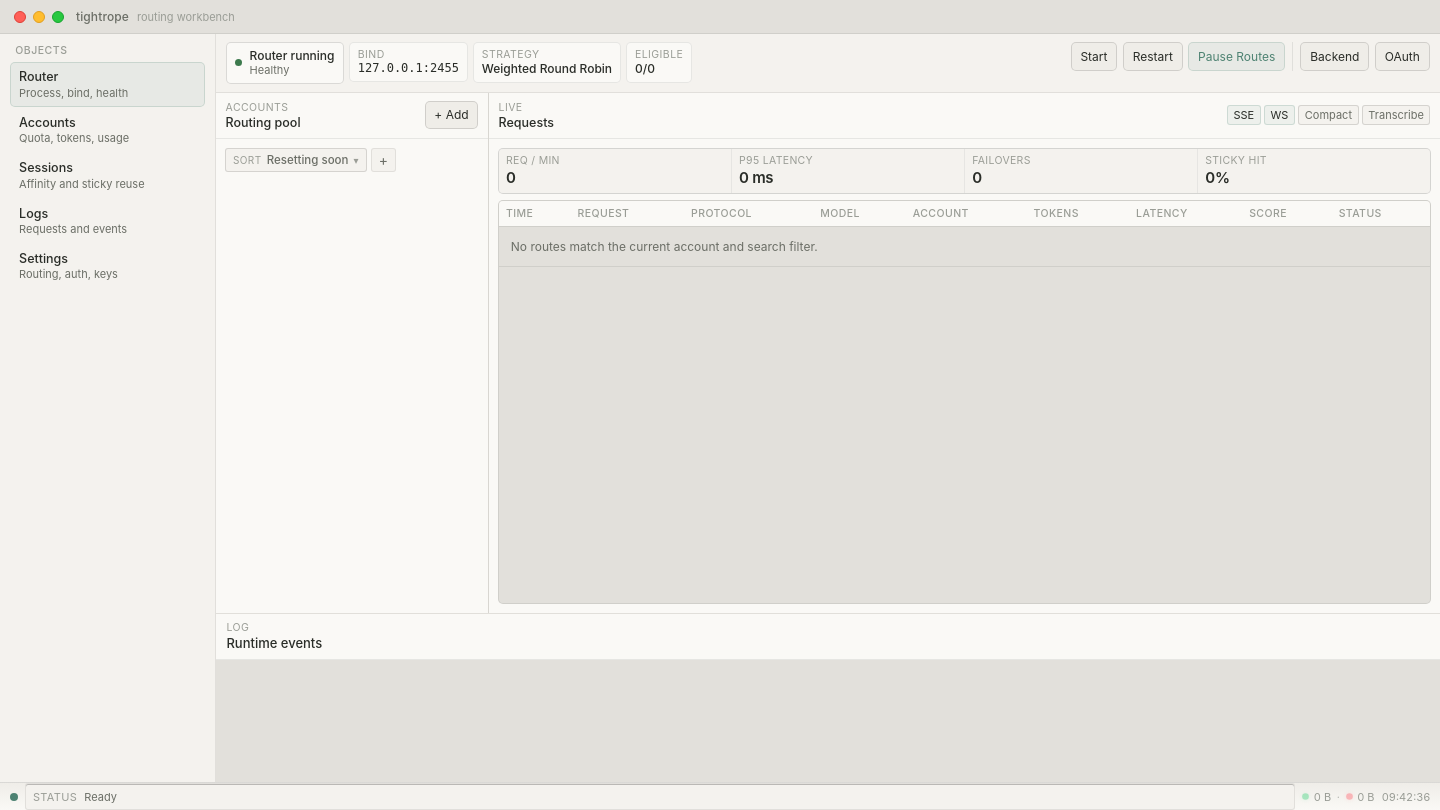
it: App › handles oauth deep-link success event and refreshes accounts immediately
Step 1. Click the button "+ Add" → (451, 115), box [424,100,478,129]
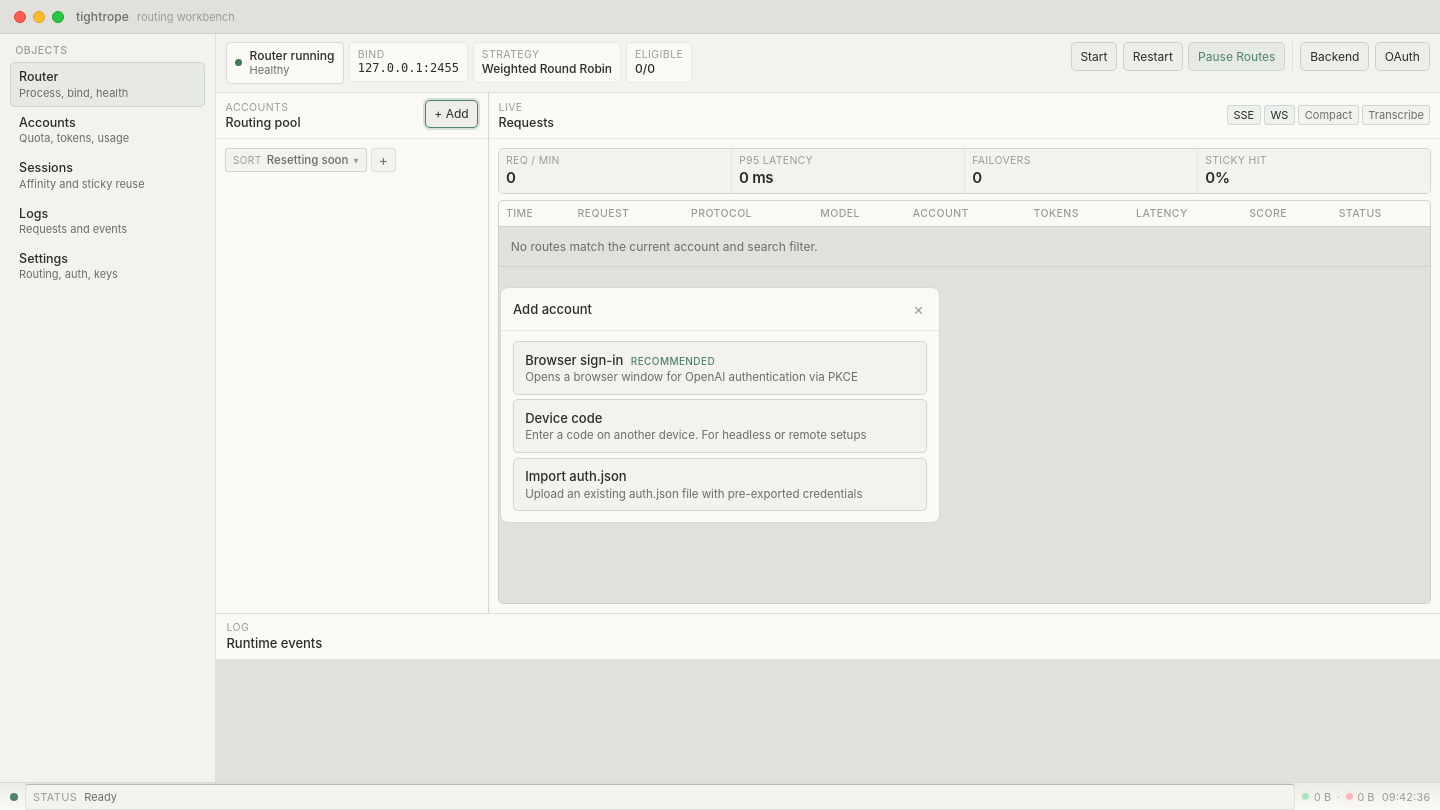
Step 2. Click the button "Browser sign-in" → (720, 368), box [513,341,927,395]
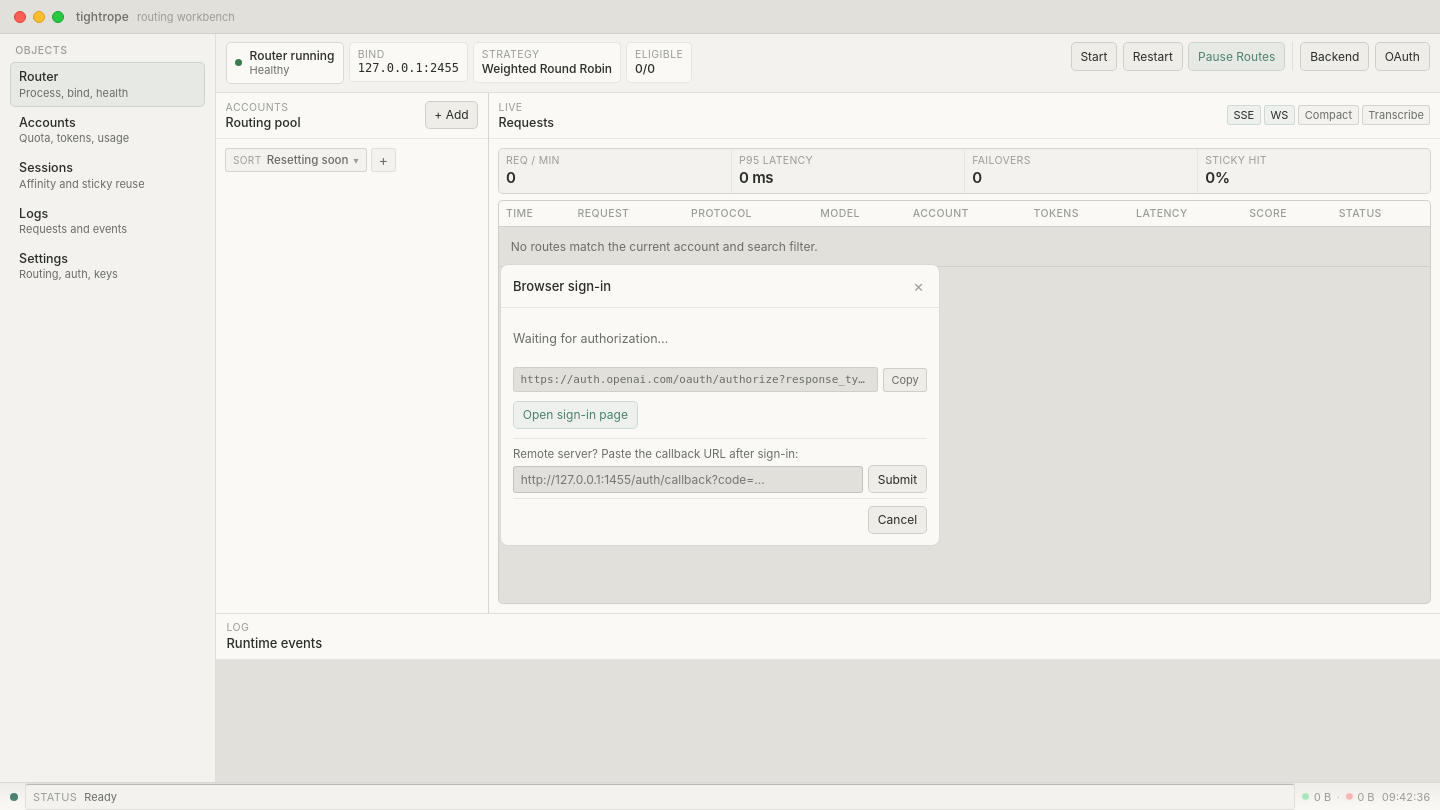
Step 3. Click the button "Open sign-in page" → (575, 415), box [513,401,638,429]
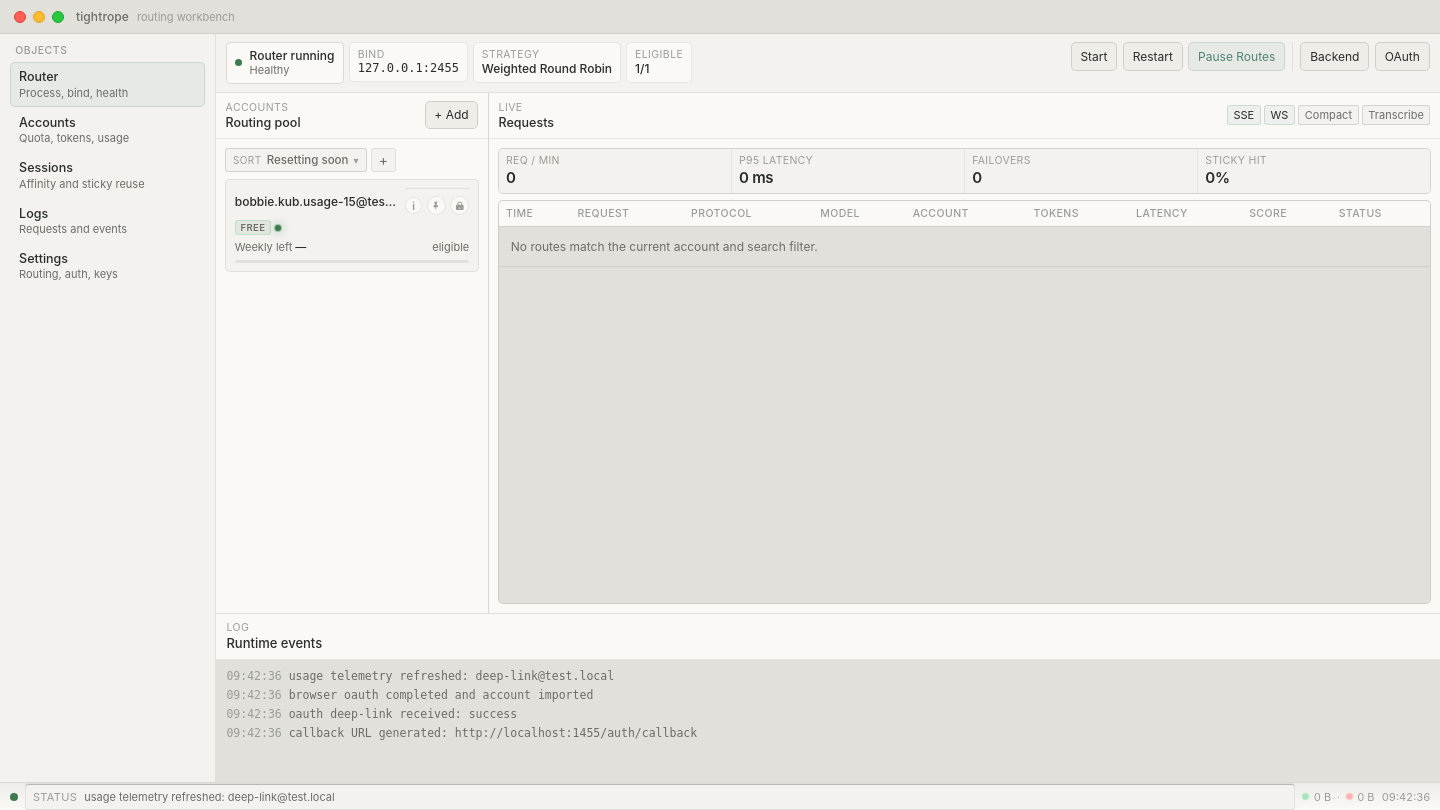
Expected: the button "Open sign-in page" is gone
